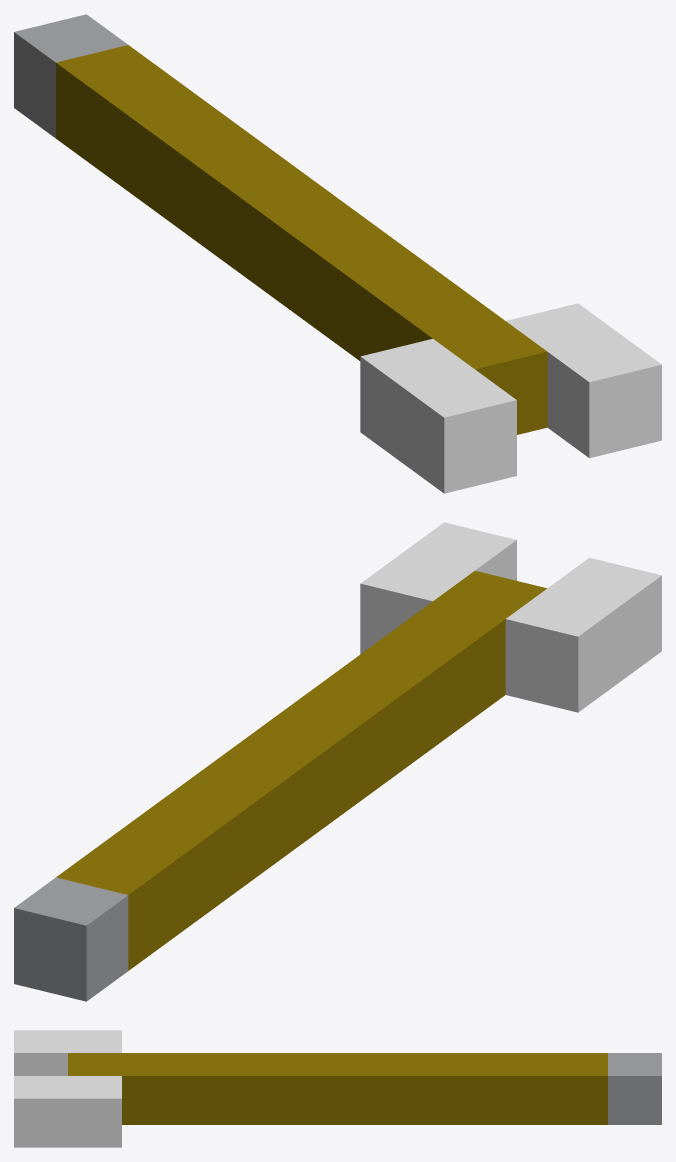
File: arrow.fbx
3 renders of one model, top to bottom at view 1: azimuth 30°, elevation 25°; view 2: azimuth 150°, elevation 25°; view 3: azimuth 270°, elevation 25°, orthographic. The views are drawn at different scales.
Visible parts, largest first — view 1: Arrow:model_Arrow_obj; view 2: Arrow:model_Arrow_obj; view 3: Arrow:model_Arrow_obj.
Boxes of the visible parts, x1,y1,x2,y2 form: Arrow:model_Arrow_obj: (14, 14, 661, 493); Arrow:model_Arrow_obj: (14, 522, 661, 1001); Arrow:model_Arrow_obj: (14, 1030, 661, 1147).
Size of the model in its own units: 3 by 1 by 12.
